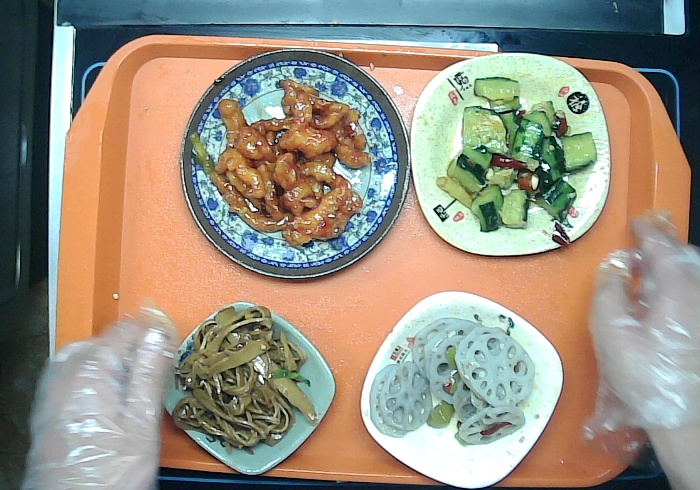NLDX-Bai_Se_Xiao_Fang_Die: (359, 292, 565, 490)
NLDX-Fu_Zi_Fang_Die: (410, 53, 611, 258)
NLDX-Qing_Hua_Xiao_Fang_Die: (162, 301, 338, 476)
NLDX-Qing_Hua_Yuan_Die: (181, 48, 412, 281)
